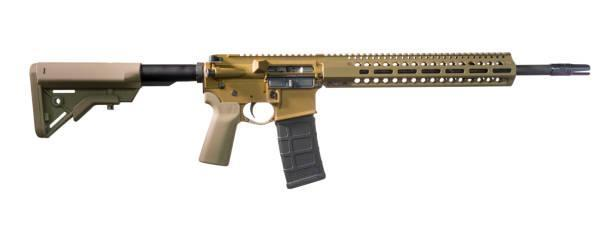larga: (29, 51, 591, 190)
